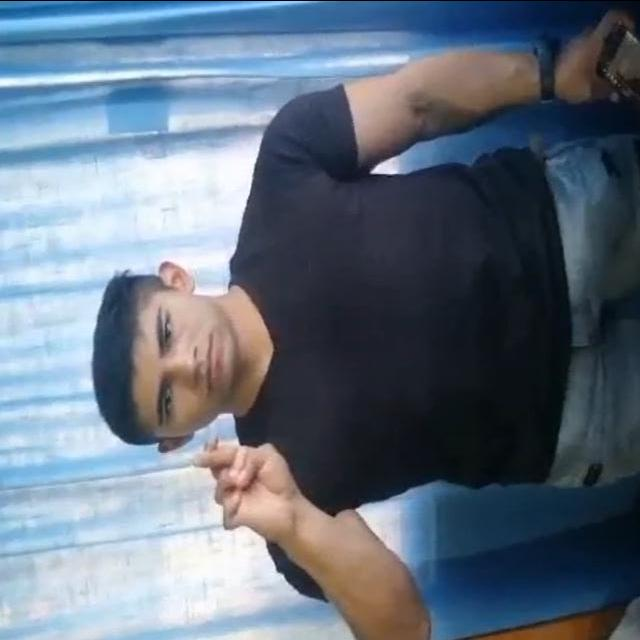R: (162, 408, 356, 542)
